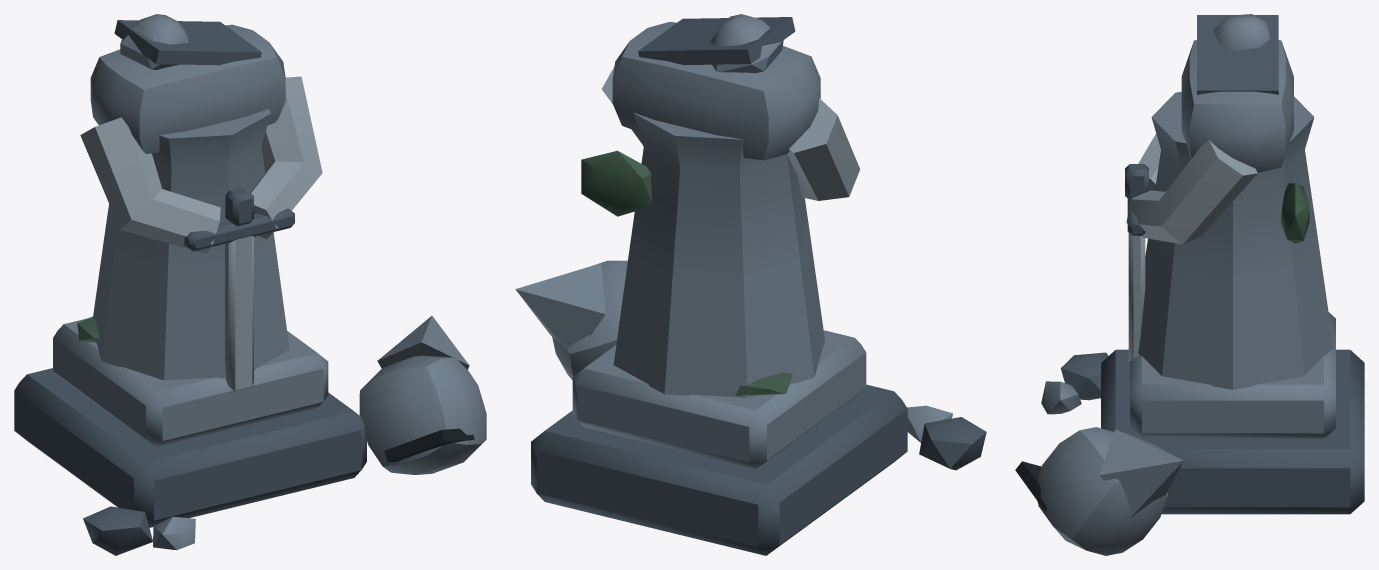
Rendered from crypt_statue.fbx.
3 renders of one model, left to right at view 1: azimuth 30°, elevation 25°; view 2: azimuth 150°, elevation 25°; view 3: azimuth 270°, elevation 25°, orthographic. The views are drawn at different scales.
Parts seen in each view (by area): view 1: crypt_statue; view 2: crypt_statue; view 3: crypt_statue.
Boxes of the visible parts, x1,y1,x2,y2 form: crypt_statue: (14,14,486,555); crypt_statue: (515,14,986,555); crypt_statue: (1015,14,1364,555).
Bounding box in the file's own units: 1.85 × 2.03 × 1.46.
